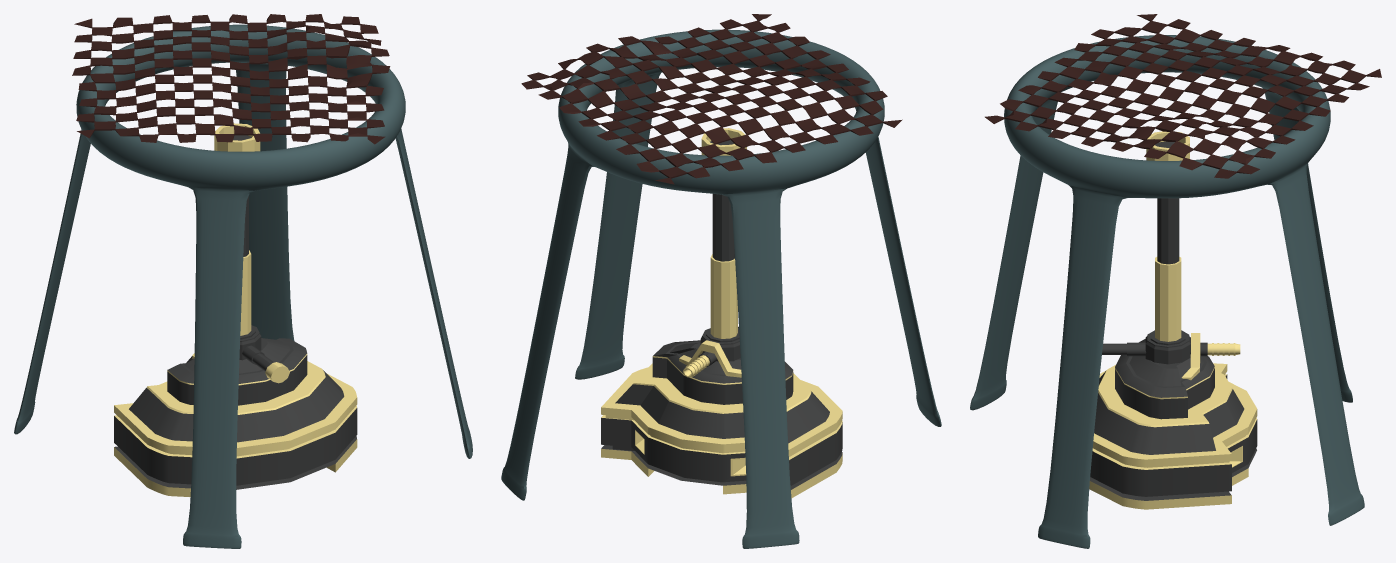
Rendered from Bunsen.fbx.
The picture shows the model from 3 angles, left to right: view 1: azimuth 30°, elevation 25°; view 2: azimuth 150°, elevation 25°; view 3: azimuth 270°, elevation 25°; orthographic projection.
Parts seen in each view (by area): view 1: polySurface322; view 2: polySurface322; view 3: polySurface322.
Part boxes in pixels (<box>): polySurface322: <box>14,14,472,548</box>; polySurface322: <box>501,14,941,548</box>; polySurface322: <box>970,14,1381,548</box>.
Bounding box in the file's own units: 0.7688 × 0.7791 × 0.7749.
